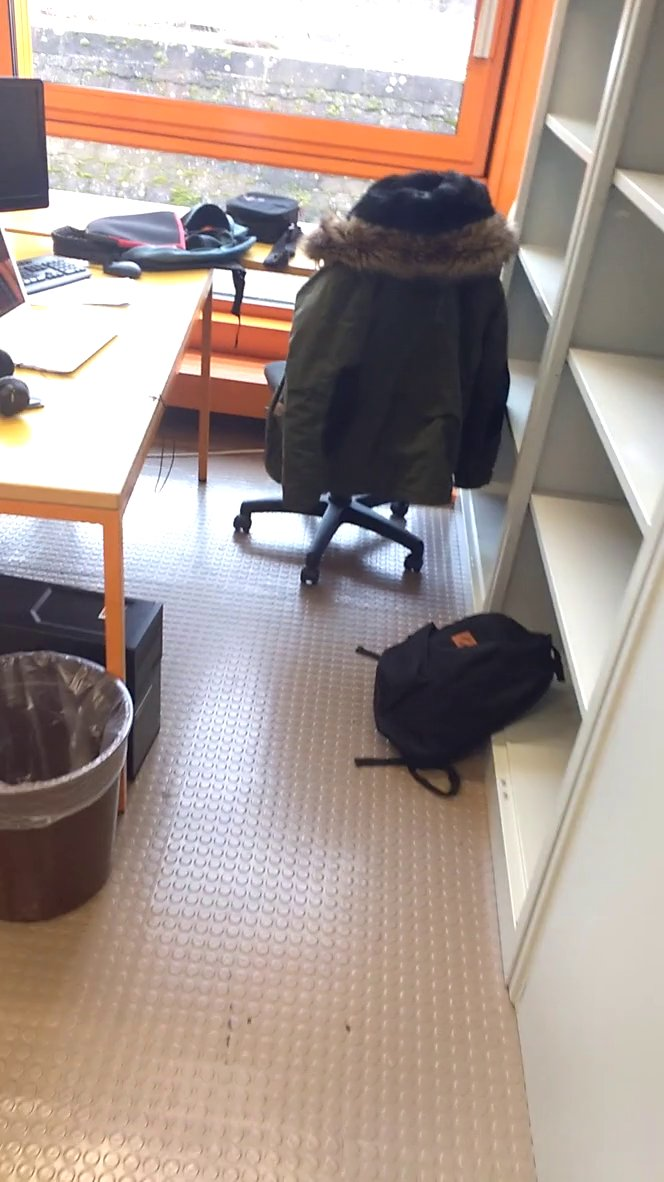bag: (343, 607, 573, 813)
bin: (1, 620, 146, 946)
